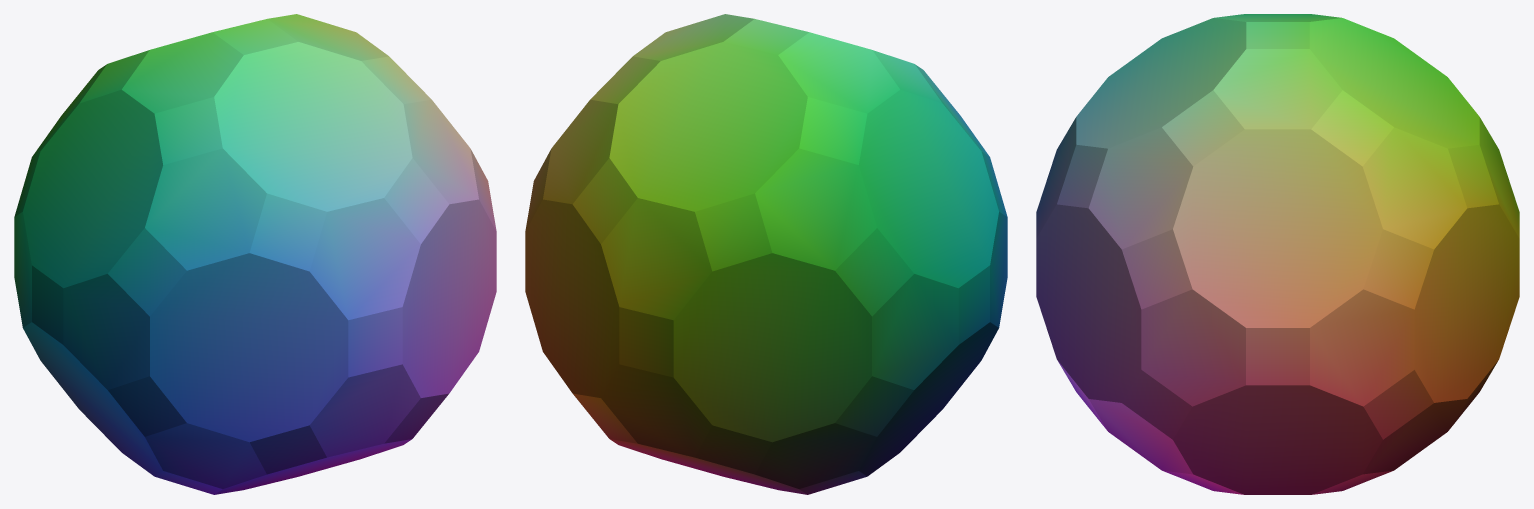
Rendered from zeometry-polyhedra-truncated-icosidodecahedron_v1.glb.
3 views of the same model, side by side, from view 1: azimuth 30°, elevation 25°; view 2: azimuth 150°, elevation 25°; view 3: azimuth 270°, elevation 25° (orthographic).
Visible parts, largest first — view 1: Truncated Icosidodecahedron; view 2: Truncated Icosidodecahedron; view 3: Truncated Icosidodecahedron.
Boxes of the visible parts, x1,y1,x2,y2 form: Truncated Icosidodecahedron: (14, 14, 496, 494); Truncated Icosidodecahedron: (525, 14, 1007, 494); Truncated Icosidodecahedron: (1036, 14, 1519, 494).
Bounding box in the file's own units: 0.5 × 0.5 × 0.5.
